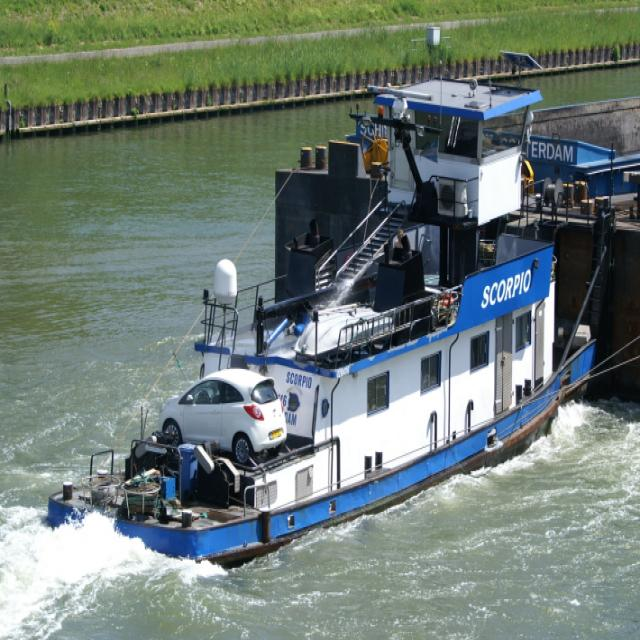tugboat: (42, 65, 600, 580)
